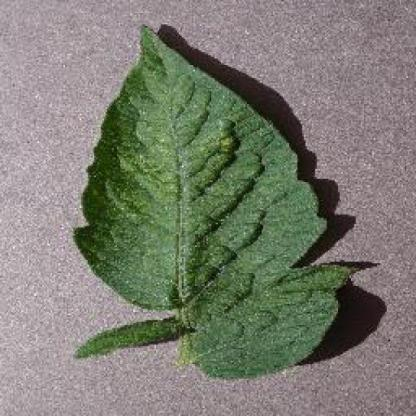Tomato_Spider_Mites: (74, 25, 355, 378)
